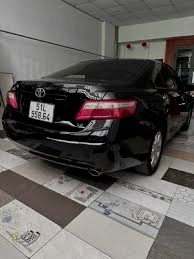Bien-so: (28, 97, 57, 119)
